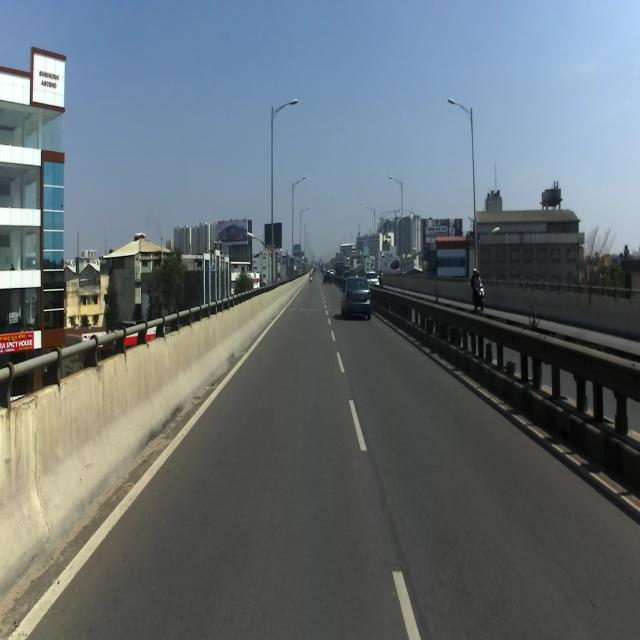car ahead at: (337, 270, 374, 324)
